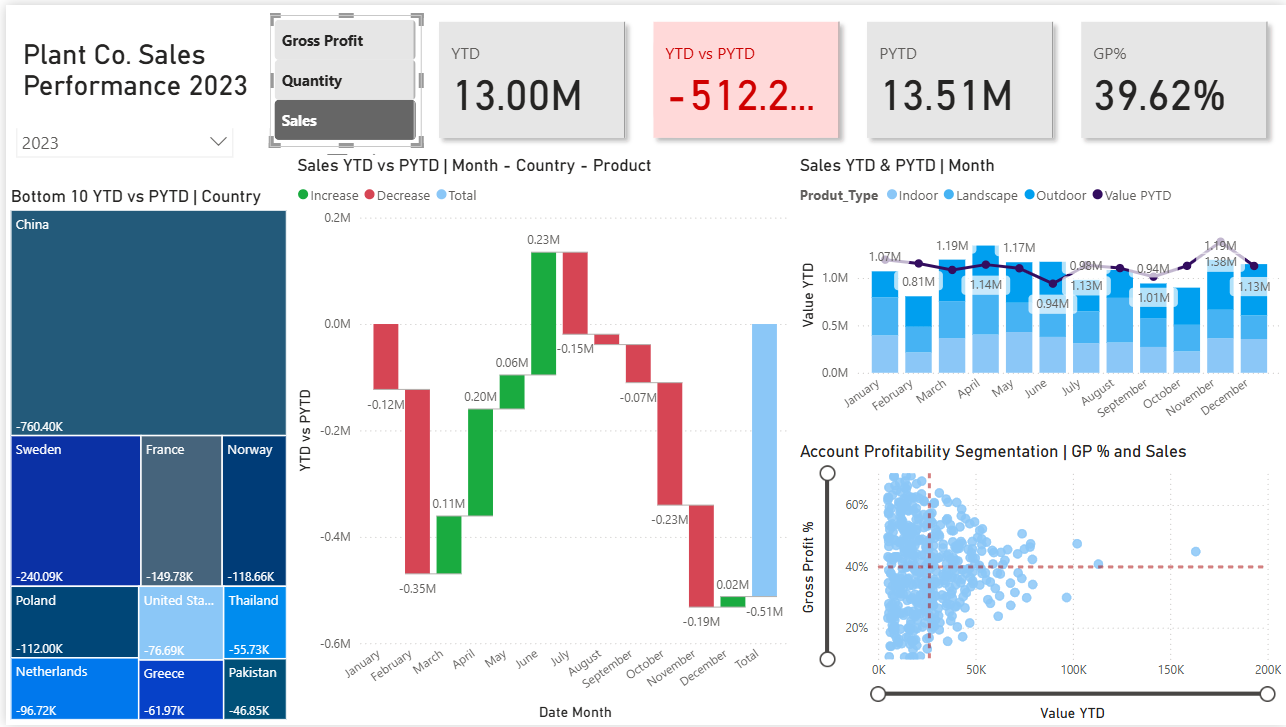

This screenshot's page, from the dashboard's own definition file:
{"tool":"powerbi","page":{"name":"Performance Report","canvas":[1280,720],"ordinal":0},"visuals":[{"type":"cardVisual","fields":{"Data":["_Measures.Switch_YTD","_Measures.YTD vs PYTD","_Measures.Switch_PYTD","_Measures.GP%"]},"box":[415.7,0,864.3,150],"z":0},{"type":"slicer","fields":{"Values":["Dim_Date.Date.Variation.Date Hierarchy.Year"]},"box":[0,110,237.1,71.4],"z":1000},{"type":"advancedSlicerVisual","fields":{"Values":["Slicer_Values.Values"]},"box":[264.3,10,151.4,132.9],"z":2000},{"type":"treemap","title":"Bottom 10 YTD vs PYTD | Country","fields":{"Values":["_Measures.YTD vs PYTD"],"Group":["Dim_Account.country"]},"box":[0,181.4,285.7,538.6],"z":3000},{"type":"waterfallChart","fields":{"Y":["_Measures.YTD vs PYTD"],"Category":["Dim_Date.Date.Variation.Date Hierarchy.Month","Dim_Account.country","Dim_Product.Produt_Type","Dim_Product.Product_Name"]},"box":[285.7,150,502.9,570],"z":4000},{"type":"lineStackedColumnComboChart","fields":{"Y":["_Measures.Switch_YTD"],"Category":["Dim_Date.Date.Variation.Date Hierarchy.Quarter","Dim_Date.Date.Variation.Date Hierarchy.Month"],"Y2":["_Measures.Switch_PYTD"],"Series":["Dim_Product.Produt_Type"]},"box":[788.6,150,491.4,285.7],"z":5000},{"type":"scatterChart","fields":{"Y":["_Measures.GP%"],"X":["_Measures.Switch_YTD"],"Category":["Dim_Account.Account"]},"box":[788.6,435.7,491.4,284.3],"z":6000},{"type":"cardVisual","fields":{"Data":["_Measures._Report Title"]},"box":[0,0,264.3,122.9],"z":6001}]}

Visuals, with their boxes in screenshot pixels (x1, y1, x2, y2), scaled from the page's 1280x720 canvas onto the 1286x727 screenshot:
cardVisual - _Measures.Switch_YTD x _Measures.YTD vs PYTD: bbox(418, 0, 1285, 151)
slicer - Dim_Date.Date.Variation.Date Hierarchy.Year: bbox(0, 111, 238, 183)
advancedSlicerVisual - Slicer_Values.Values: bbox(266, 10, 418, 144)
"Bottom 10 YTD vs PYTD | Country" treemap: bbox(0, 183, 287, 726)
waterfallChart - _Measures.YTD vs PYTD x Dim_Date.Date.Variation.Date Hierarchy.Month: bbox(287, 151, 792, 726)
lineStackedColumnComboChart - _Measures.Switch_YTD x Dim_Date.Date.Variation.Date Hierarchy.Quarter: bbox(792, 151, 1285, 440)
scatterChart - _Measures.GP% x _Measures.Switch_YTD: bbox(792, 440, 1285, 726)
cardVisual - _Measures._Report Title: bbox(0, 0, 266, 124)
